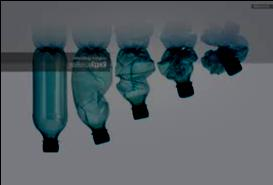Plastic: (67, 37, 113, 149), (28, 43, 67, 161), (113, 41, 153, 126), (154, 38, 196, 106), (199, 42, 251, 79)
